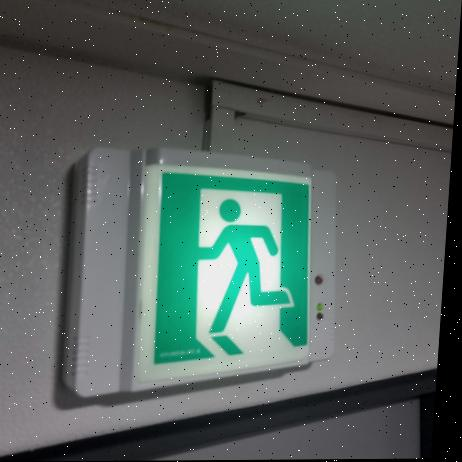emergency_exit: (62, 144, 320, 401), (134, 158, 313, 387)
